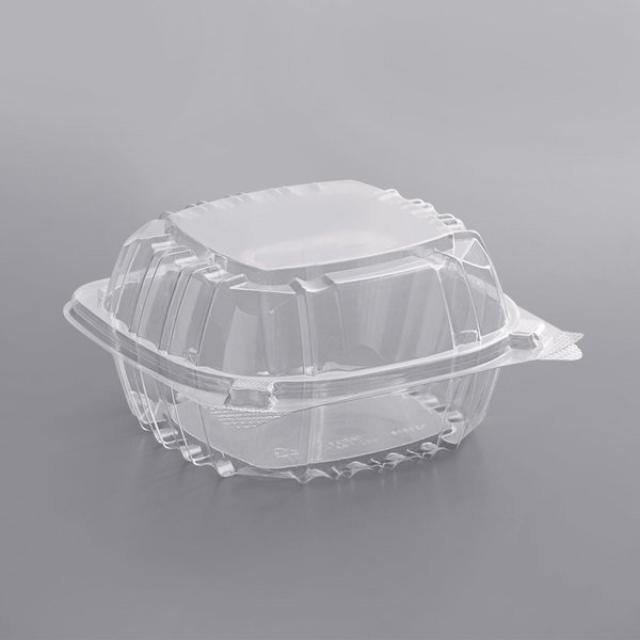plastic: (63, 180, 580, 482)
